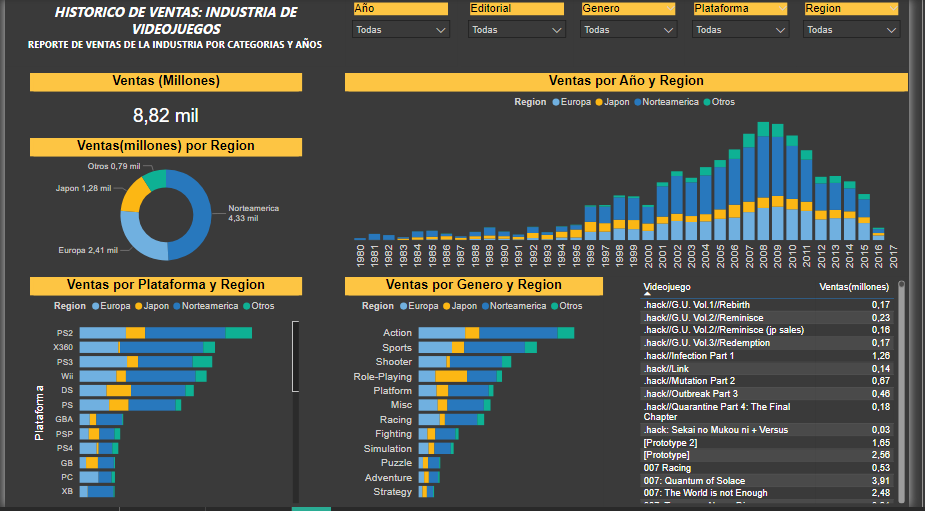

The page's visual inventory and layout, read from the dashboard file:
{"tool":"powerbi","page":{"name":"Página 1","canvas":[1280,720],"ordinal":0},"visuals":[{"type":"tableEx","fields":{"Values":["Ventas Videojuegos.Nombre","Sum(Ventas Videojuegos.Ventas(millones))"]},"box":[894.3,394,385.5,326],"z":0},{"type":"columnChart","title":"Ventas por Año y Region","fields":{"Category":["Ventas Videojuegos.Año"],"Y":["Sum(Ventas Videojuegos.Ventas(millones))"],"Series":["Ventas Videojuegos.Region"]},"box":[481.9,104.9,798,289.1],"z":1000},{"type":"donutChart","title":"Ventas(millones) por Region","fields":{"Category":["Ventas Videojuegos.Region"],"Y":["Sum(Ventas Videojuegos.Ventas(millones))"]},"box":[35.4,197,385.5,197],"z":2000},{"type":"barChart","title":"Ventas por Plataforma y Region","fields":{"Category":["Ventas Videojuegos.Plataforma"],"Y":["Sum(Ventas Videojuegos.Ventas(millones))"],"Series":["Ventas Videojuegos.Region"]},"box":[35.4,394,385.5,326],"z":3000},{"type":"barChart","title":"Ventas por Genero y Region","fields":{"Category":["Ventas Videojuegos.Genero"],"Y":["Sum(Ventas Videojuegos.Ventas(millones))"],"Series":["Ventas Videojuegos.Region"]},"box":[481.9,394,365.7,326],"z":4000},{"type":"cardVisual","title":"Ventas (Millones)","fields":{"Data":["Sum(Ventas Videojuegos.Ventas(millones))"]},"box":[35.4,104.9,385.5,92.1],"z":5000},{"type":"slicer","fields":{"Values":["Ventas Videojuegos.Año"]},"box":[481.9,0,158.7,95],"z":6000},{"type":"slicer","fields":{"Values":["Ventas Videojuegos.Genero"]},"box":[805,0,158.4,95],"z":7000},{"type":"slicer","fields":{"Values":["Ventas Videojuegos.Editorial"]},"box":[646.3,0,158.7,95],"z":8000},{"type":"slicer","fields":{"Values":["Ventas Videojuegos.Plataforma"]},"box":[963.4,0,158.4,95],"z":9000},{"type":"slicer","fields":{"Values":["Ventas Videojuegos.Region"]},"box":[1121.8,0,158.4,95],"z":10000},{"type":"textbox","box":[0,0,481.9,95],"z":11000}]}

Visuals, with their boxes in screenshot pixels (x1, y1, x2, y2), scaled from the page's 1280x720 canvas onto the 925x511 screenshot:
tableEx - Ventas Videojuegos.Nombre x Sum(Ventas Videojuegos.Ventas(millones)): [left=646, top=280, right=924, bottom=510]
"Ventas por Año y Region" columnChart: [left=348, top=74, right=924, bottom=280]
"Ventas(millones) por Region" donutChart: [left=26, top=140, right=304, bottom=280]
"Ventas por Plataforma y Region" barChart: [left=26, top=280, right=304, bottom=510]
"Ventas por Genero y Region" barChart: [left=348, top=280, right=613, bottom=510]
"Ventas (Millones)" cardVisual: [left=26, top=74, right=304, bottom=140]
slicer - Ventas Videojuegos.Año: [left=348, top=0, right=463, bottom=67]
slicer - Ventas Videojuegos.Genero: [left=582, top=0, right=696, bottom=67]
slicer - Ventas Videojuegos.Editorial: [left=467, top=0, right=582, bottom=67]
slicer - Ventas Videojuegos.Plataforma: [left=696, top=0, right=811, bottom=67]
slicer - Ventas Videojuegos.Region: [left=811, top=0, right=924, bottom=67]
textbox: [left=0, top=0, right=348, bottom=67]
